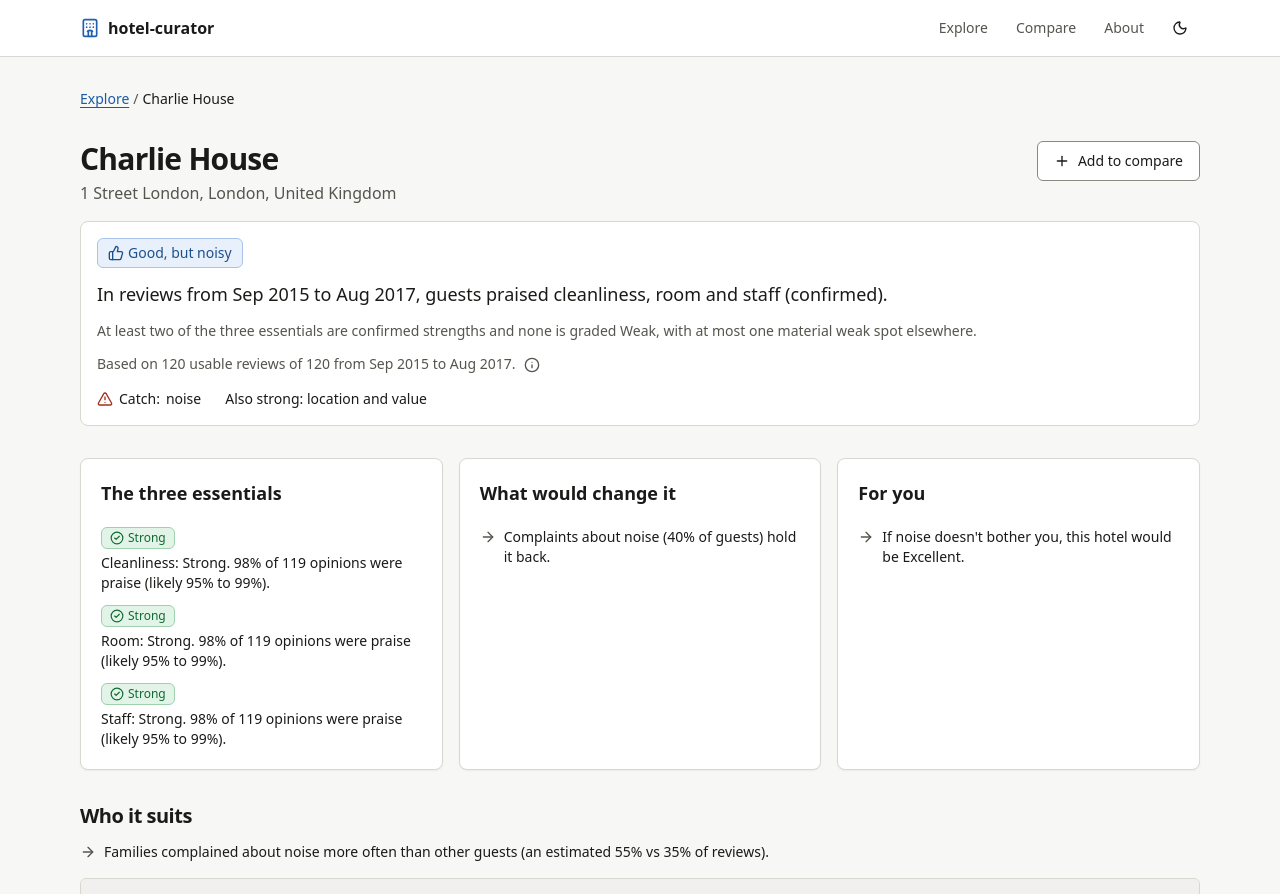
Test: Hotel page › explains "usable review" in a popover that opens on click
Expected: the heading "Charlie House" is shown, [80, 138, 278, 179]
Click the button named "What is a usable review?" at (532, 365), box [520, 353, 544, 377]
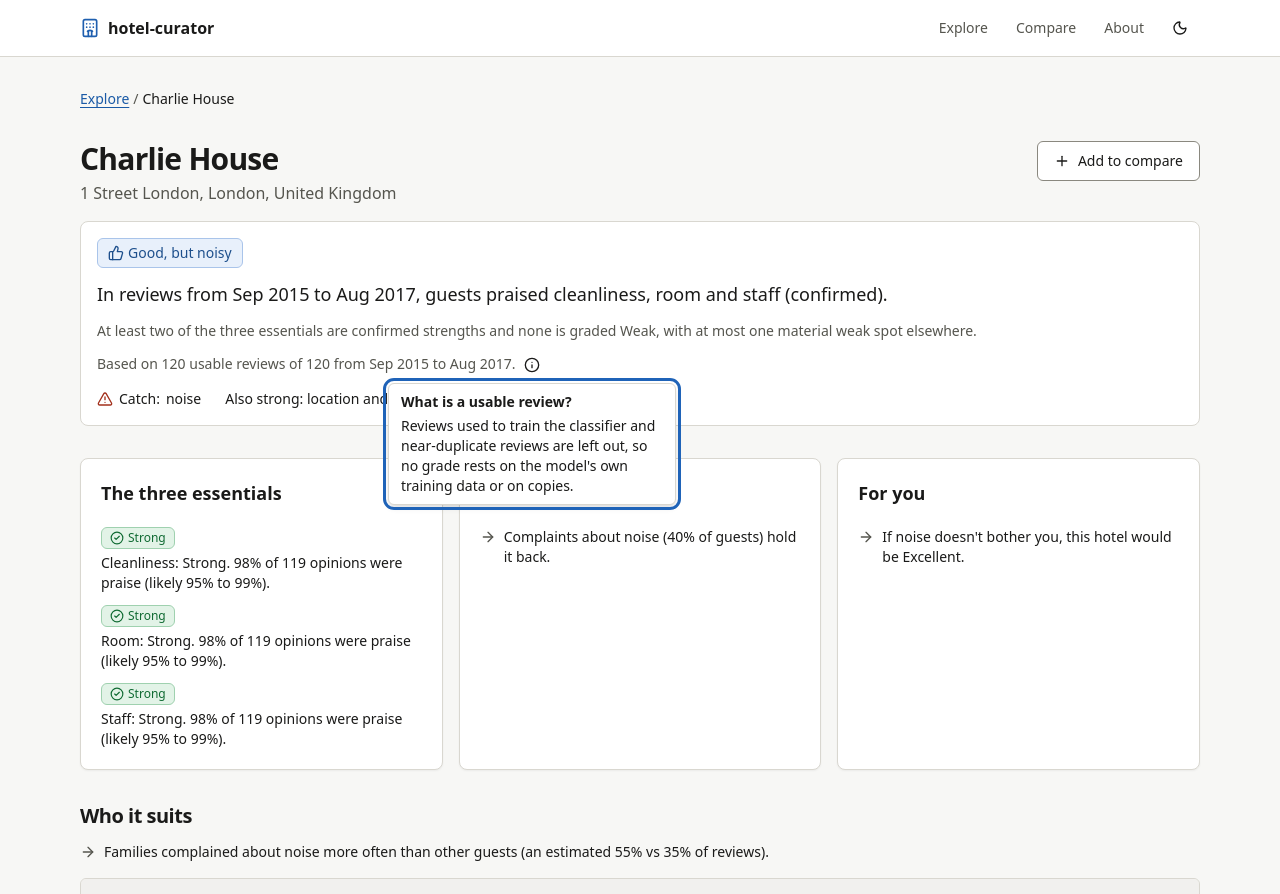
Now the dialog "What is a usable review?" shows "near-duplicate reviews are left out", box [401, 416, 655, 495]
Now the button named "What is a usable review?" is expanded, box [520, 353, 544, 377]
Press Escape
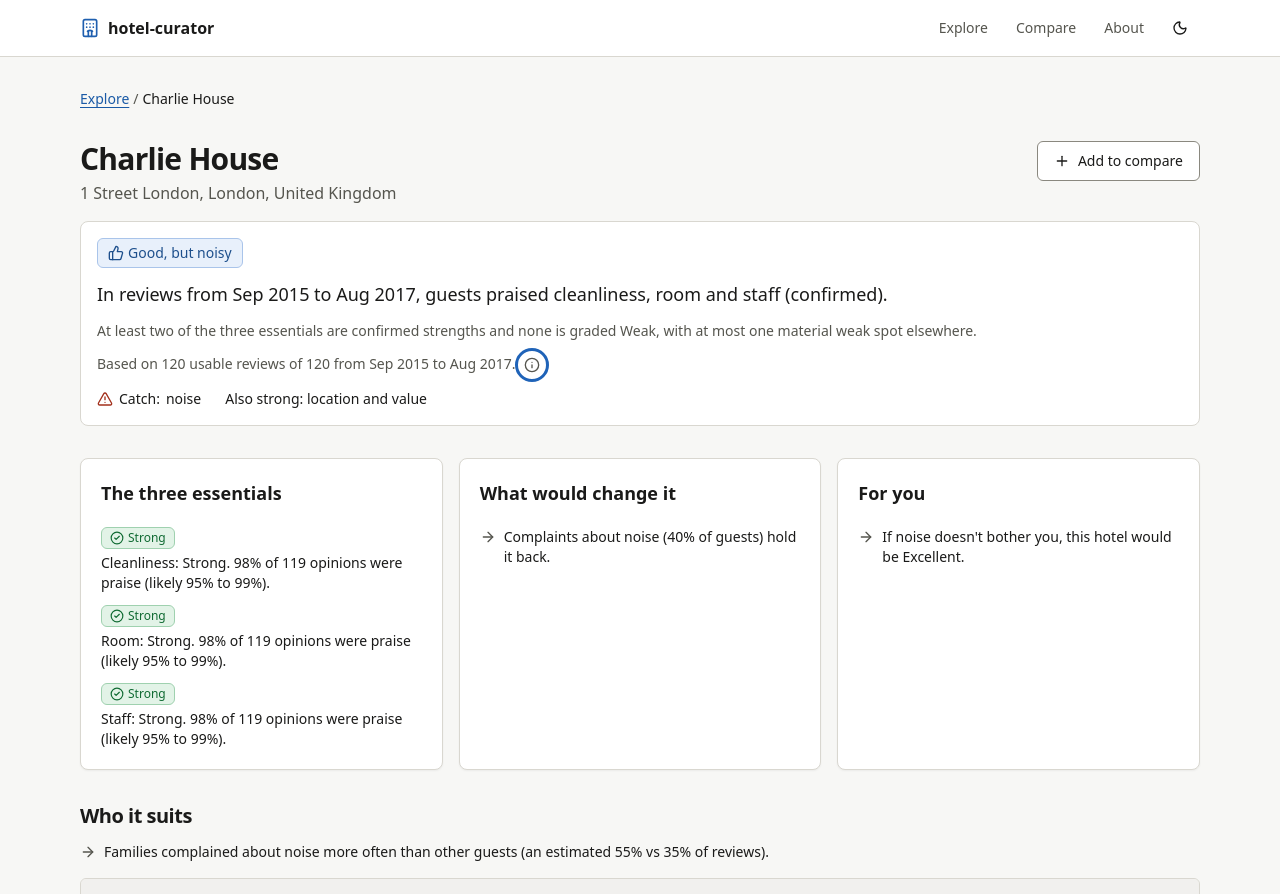
Now the dialog is gone
